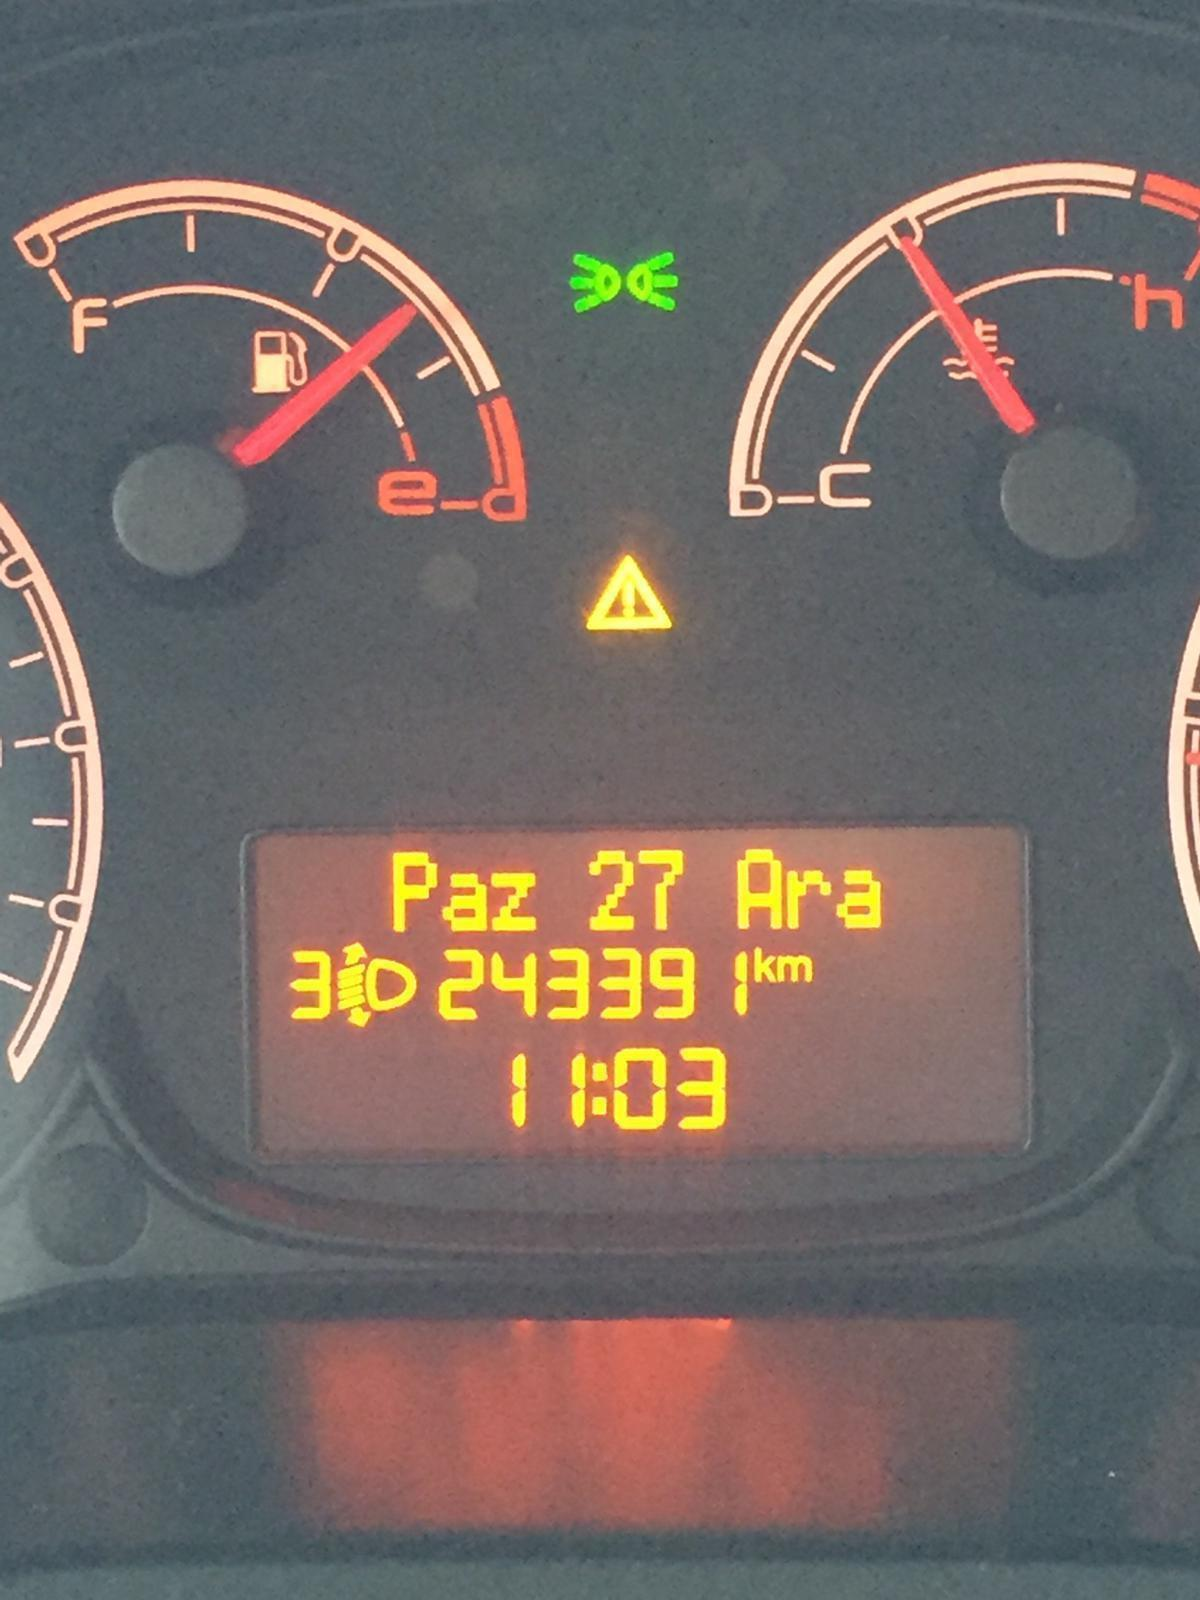0: (614, 1043, 669, 1130)
1: (504, 1044, 534, 1134), (568, 1046, 589, 1135), (730, 946, 751, 1019)
2: (436, 940, 487, 1027), (587, 845, 637, 934)
3: (678, 1043, 727, 1131), (597, 941, 647, 1023), (543, 944, 591, 1026), (290, 944, 334, 1024)
4: (488, 946, 538, 1023)
7: (637, 844, 684, 932)
9: (648, 944, 700, 1020)
X: (732, 843, 782, 931), (386, 849, 435, 932), (838, 862, 886, 934), (490, 866, 542, 931), (782, 864, 831, 932), (441, 867, 492, 932), (589, 1054, 609, 1123), (747, 946, 780, 986), (776, 952, 814, 986)
odometer: (250, 821, 1041, 1153)
